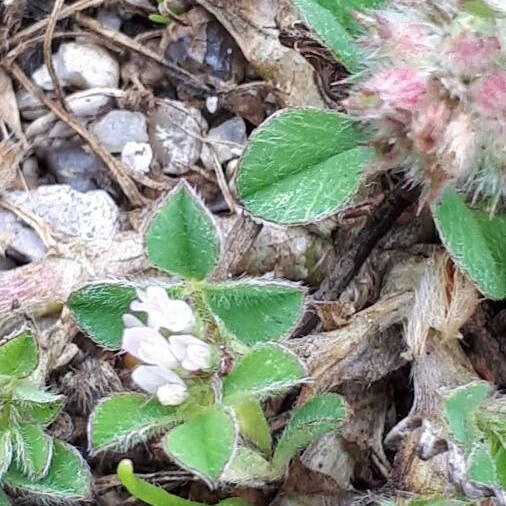obstacle: (77, 101, 375, 475)
